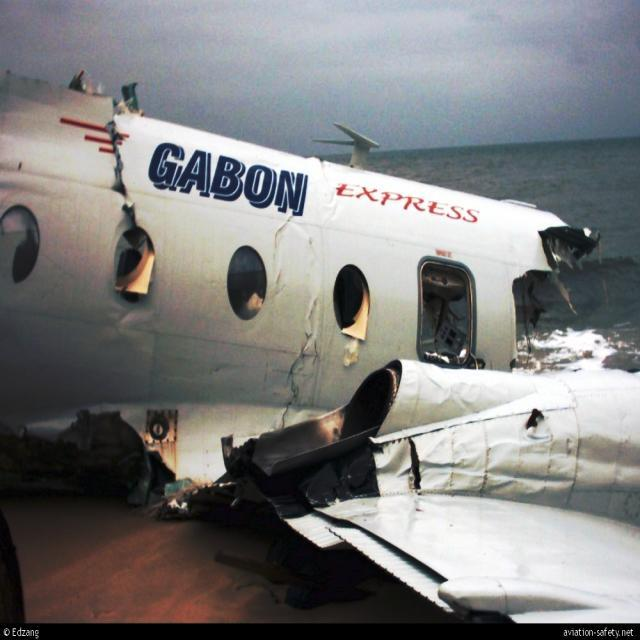crack: (277, 320, 322, 432), (104, 105, 134, 230), (271, 208, 302, 277), (408, 436, 426, 494)
